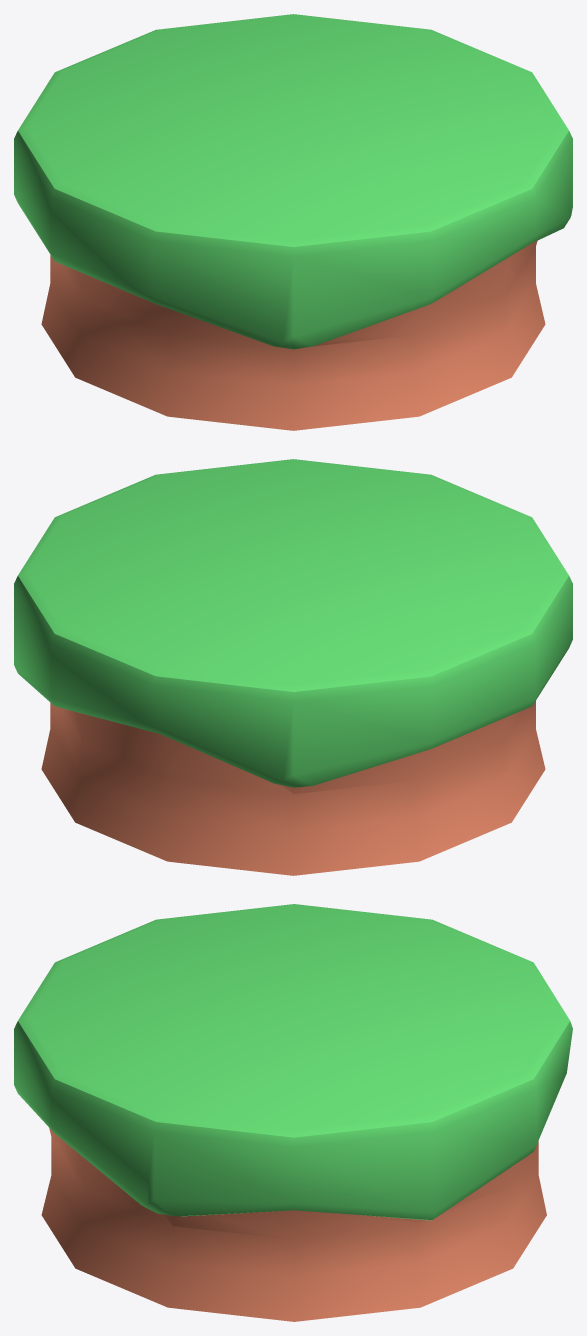
Rendered from Hill_A.fbx.
3 views of the same model, one above another, from view 1: azimuth 30°, elevation 25°; view 2: azimuth 150°, elevation 25°; view 3: azimuth 270°, elevation 25° (orthographic).
Parts seen in each view (by area): view 1: Hill_A; view 2: Hill_A; view 3: Hill_A.
Boxes of the visible parts, x1,y1,x2,y2 form: Hill_A: (14, 14, 572, 430); Hill_A: (14, 459, 572, 875); Hill_A: (14, 904, 572, 1321).
Bounding box in the file's own units: 222 × 86.3 × 221.
